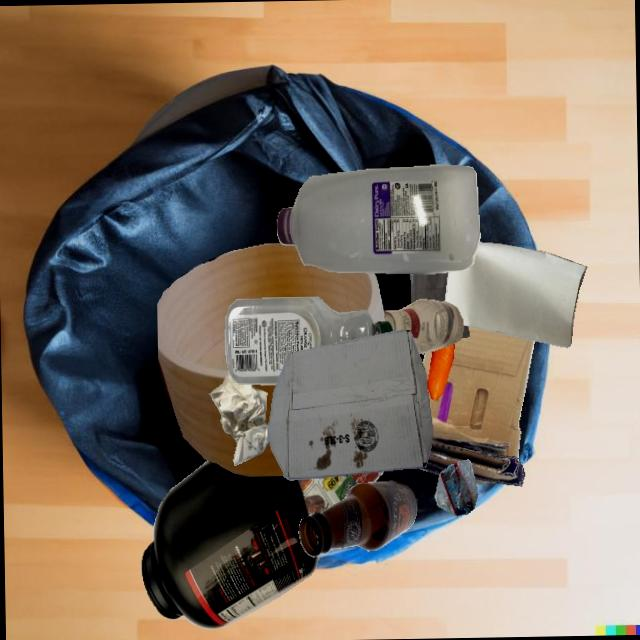biowaste: (427, 343, 454, 400)
cardboard: (267, 329, 433, 480), (417, 326, 534, 486)
combustible waste: (157, 243, 385, 476)
glass: (298, 480, 417, 556), (383, 298, 463, 353)
paper: (444, 242, 586, 347), (209, 371, 269, 465), (298, 471, 384, 515)
plastic: (141, 460, 318, 628), (276, 164, 480, 274), (224, 296, 393, 384), (434, 459, 477, 516), (409, 271, 448, 303)
